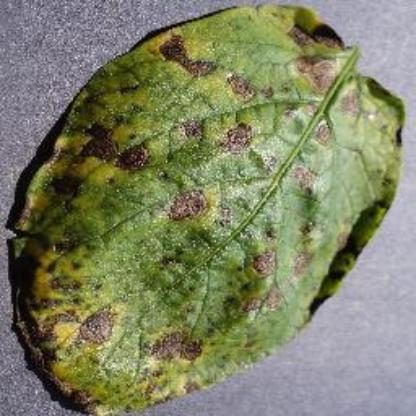Early-Blight: (8, 2, 404, 414)
